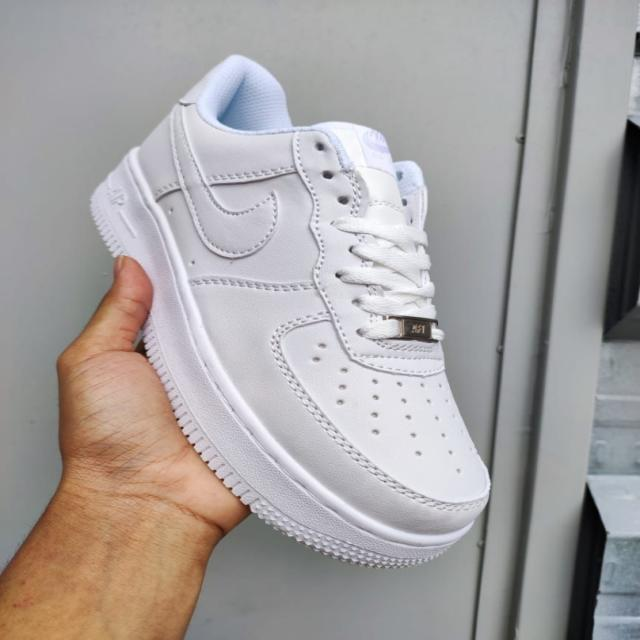nike fake air force: (72, 56, 490, 566)
